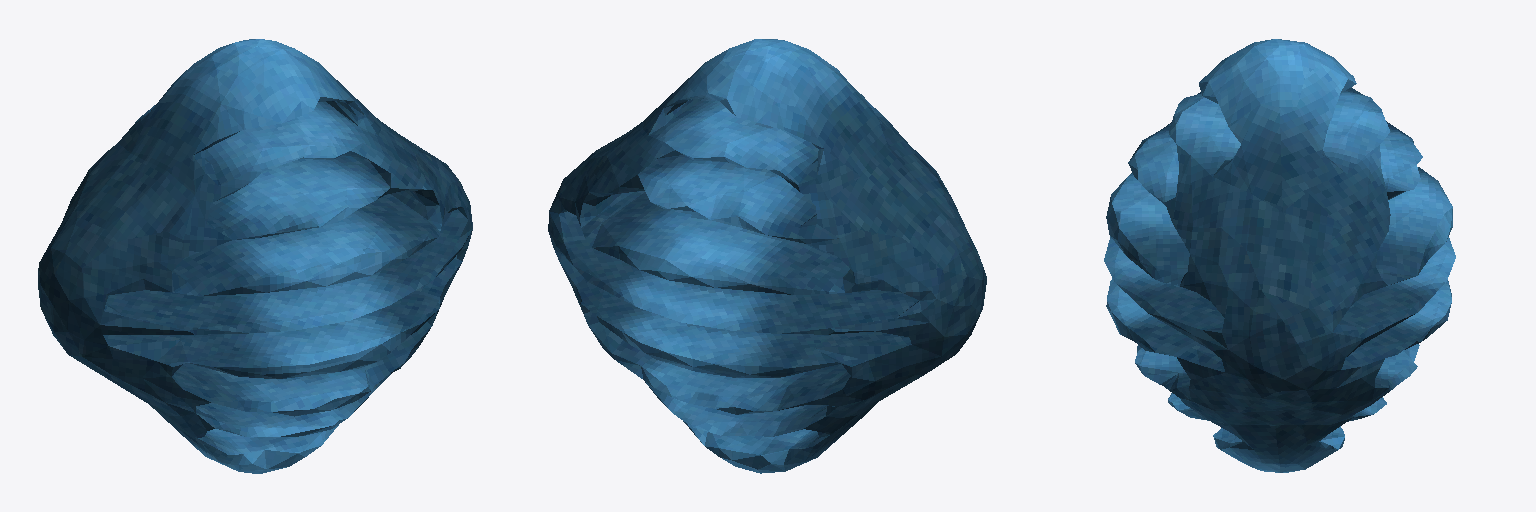
The picture shows the model from 3 angles: view 1: azimuth 30°, elevation 25°; view 2: azimuth 150°, elevation 25°; view 3: azimuth 270°, elevation 25°; orthographic projection.
Parts seen in each view (by area): view 1: art_battery_Icosphere; view 2: art_battery_Icosphere; view 3: art_battery_Icosphere.
Boxes of the visible parts, x1=… form: art_battery_Icosphere: x1=38, y1=39, x2=472, y2=473; art_battery_Icosphere: x1=548, y1=39, x2=986, y2=473; art_battery_Icosphere: x1=1104, y1=39, x2=1455, y2=472.
Size of the model in its own units: 2.56 by 2.52 by 1.92.
Materials: 1 (1 with a texture image).